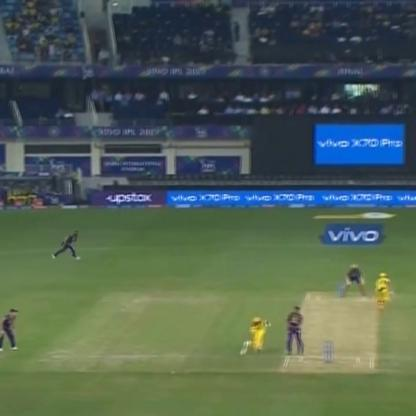pitch: (276, 285, 376, 370)
